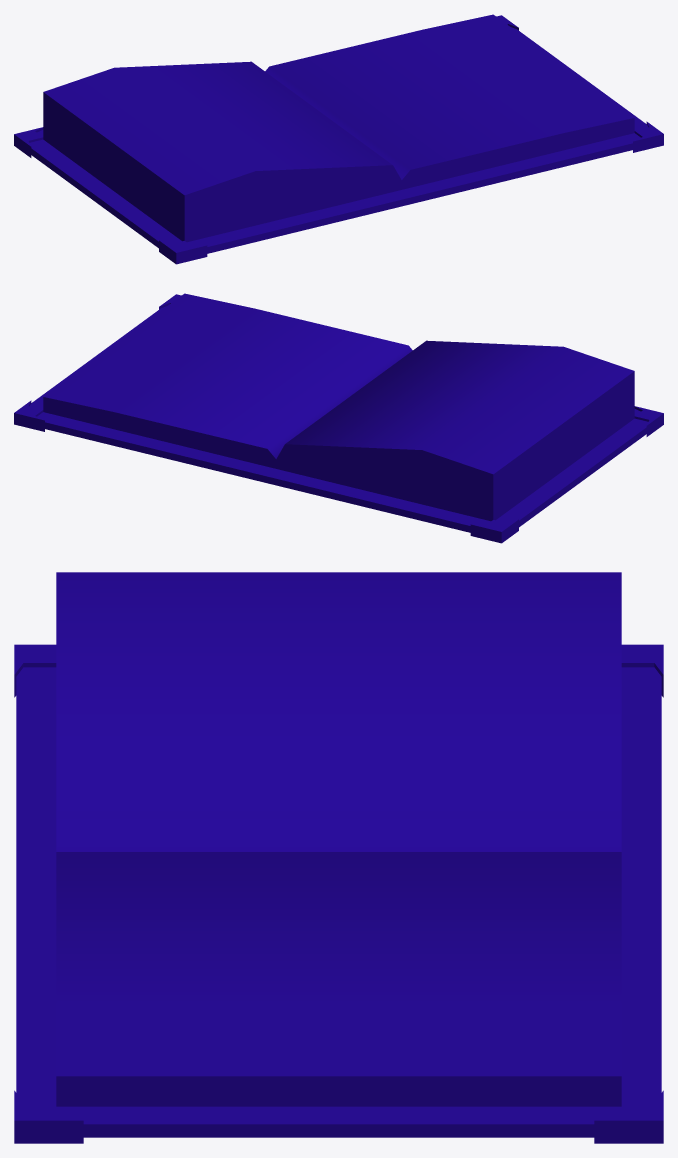
File: CG_Model_TownInt_Book10_Mar24_ChrisMcknight.FBX
3 renders of one model, top to bottom at view 1: azimuth 30°, elevation 25°; view 2: azimuth 150°, elevation 25°; view 3: azimuth 270°, elevation 25°, orthographic. The views are drawn at different scales.
Parts seen in each view (by area): view 1: Book10; view 2: Book10; view 3: Book10.
Part boxes in pixels (x1,y1,x2,y2): Book10: [14, 14, 663, 264]; Book10: [14, 293, 663, 543]; Book10: [14, 572, 663, 1143].
Bounding box in the file's own units: 9.87 × 1.23 × 5.69.
